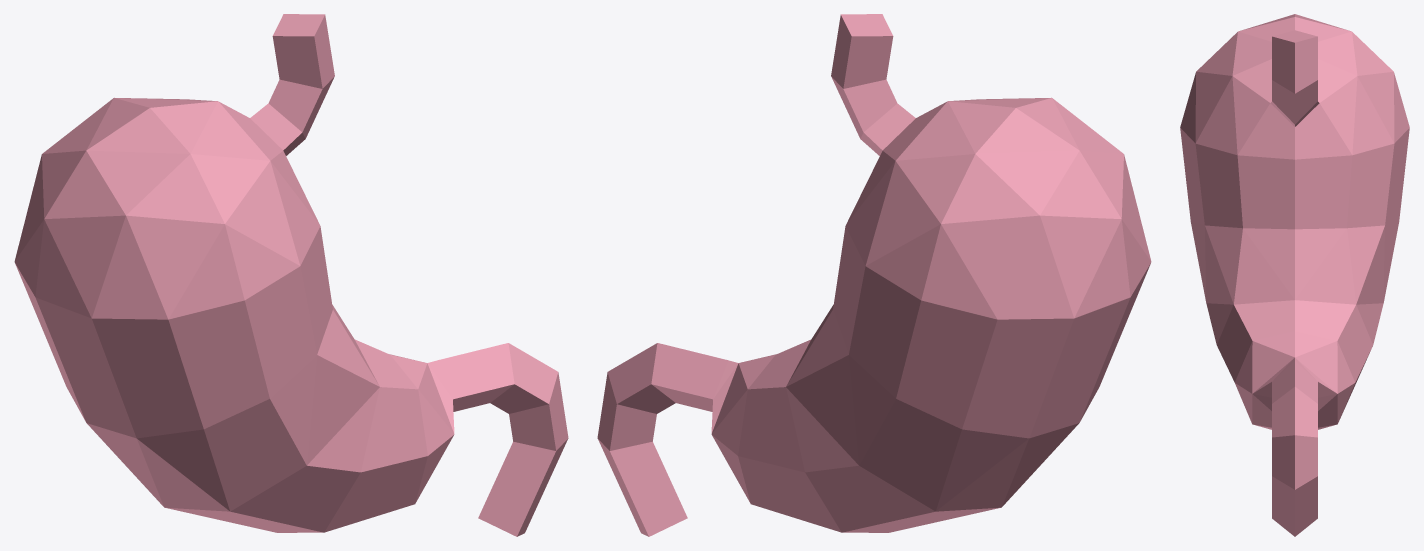
File: stomach.FBX
The picture shows the model from 3 angles, left to right: view 1: azimuth 30°, elevation 25°; view 2: azimuth 150°, elevation 25°; view 3: azimuth 270°, elevation 25°; orthographic projection. The views are drawn at different scales.
Parts seen in each view (by area): view 1: stomach; view 2: stomach; view 3: stomach.
Boxes of the visible parts, x1,y1,x2,y2 form: stomach: (14, 14, 568, 536); stomach: (597, 14, 1151, 536); stomach: (1180, 14, 1409, 536).
Size of the model in its own units: 0.4827 by 0.4911 by 0.2424.
